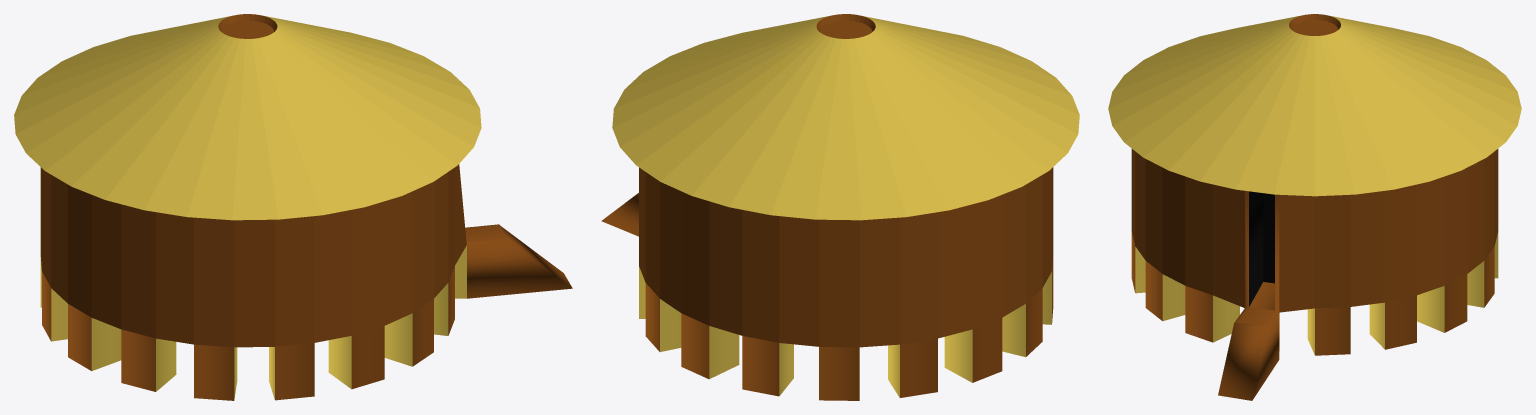
3 renders of one model, left to right at view 1: azimuth 30°, elevation 25°; view 2: azimuth 150°, elevation 25°; view 3: azimuth 270°, elevation 25°, orthographic. The views are drawn at different scales.
Parts seen in each view (by area): view 1: Cylinder; view 2: Cylinder; view 3: Cylinder.
Part boxes in pixels (x1=…): Cylinder: x1=14, y1=14, x2=572, y2=400; Cylinder: x1=601, y1=14, x2=1079, y2=400; Cylinder: x1=1108, y1=14, x2=1521, y2=400.
Size of the model in its own units: 752 by 430 by 631.
